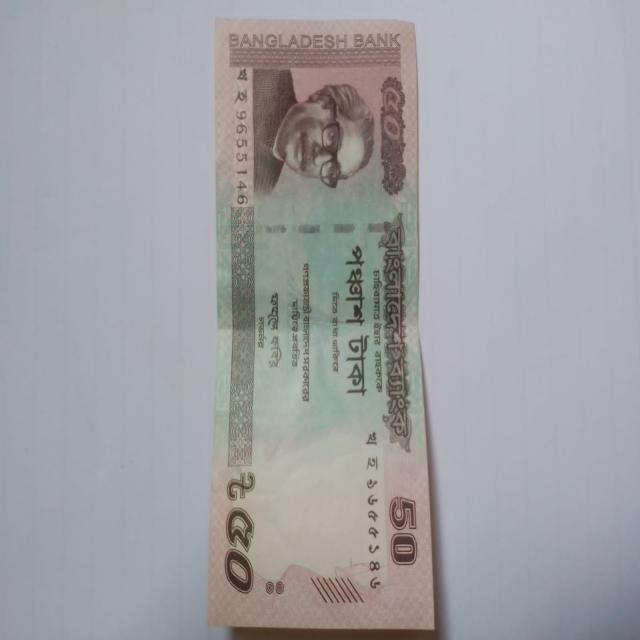Taka: (202, 7, 450, 637)
